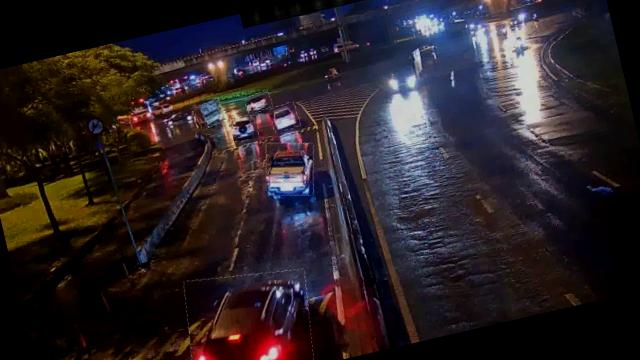Car: (175, 259, 323, 360), (258, 135, 321, 202), (269, 102, 301, 133), (228, 112, 260, 142), (244, 90, 274, 114)
Truck: (194, 98, 227, 130)
